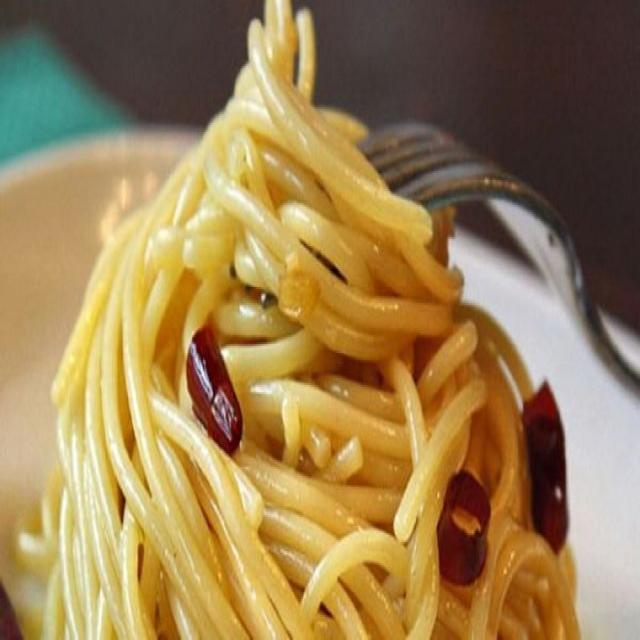Oil pasta: (66, 46, 602, 640)
